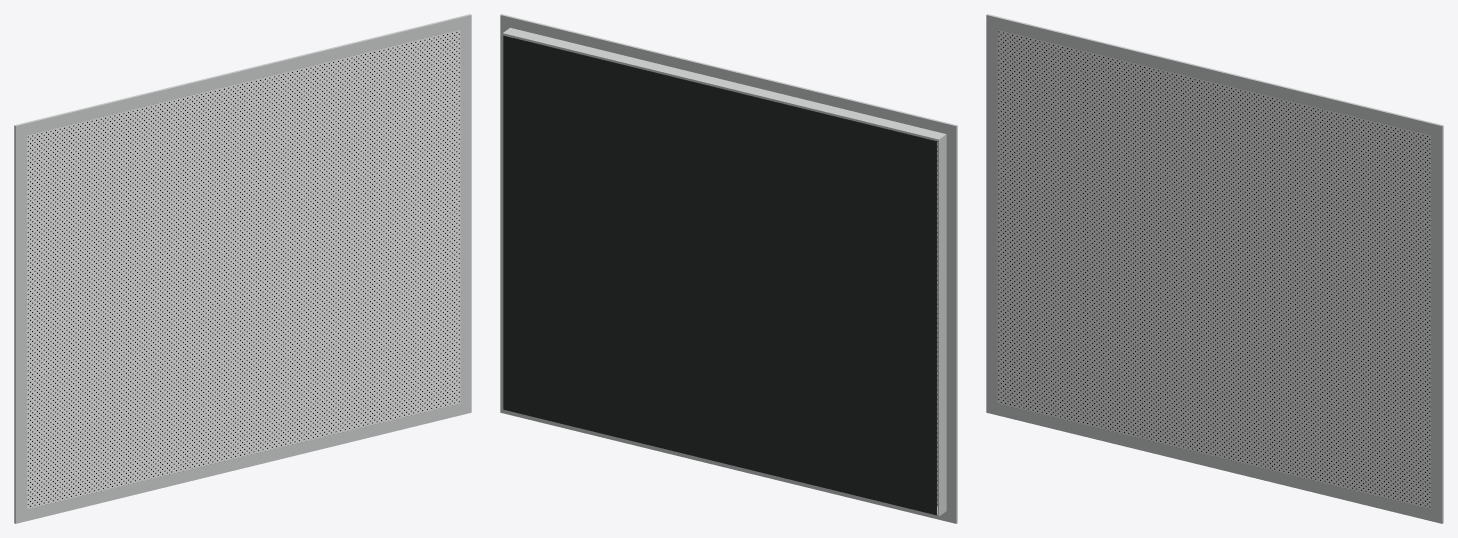
File: ecoclima-egfr-600x500.glb
3 renders of one model, left to right at view 1: azimuth 30°, elevation 25°; view 2: azimuth 150°, elevation 25°; view 3: azimuth 330°, elevation 25°, orthographic.
Visible parts, largest first — view 1: Profile_lamiera_forata.001, Profile_cornice.113, Profile_cornice.114, Profile_cornice.115, Profile_cornice.116; view 2: Interno.032, Profile_cornice.113, Profile_cornice.115, Profile_ritorno.120, Profile_ritorno.122, Profile_cornice.114, Profile_cornice.116, Profile_lamiera_forata.001, Profile_ritorno.123, Profile_ritorno.121; view 3: Profile_lamiera_forata.001, Profile_cornice.113, Profile_cornice.114, Profile_cornice.116, Profile_cornice.115.
Boxes of the visible parts, x1,y1,x2,y2 form: Profile_lamiera_forata.001: [27, 30, 460, 509]; Profile_cornice.113: [14, 14, 471, 137]; Profile_cornice.114: [14, 401, 471, 523]; Profile_cornice.115: [14, 135, 26, 511]; Profile_cornice.116: [460, 27, 471, 403]; Interno.032: [503, 35, 936, 515]; Profile_cornice.113: [500, 14, 957, 137]; Profile_cornice.115: [946, 136, 957, 511]; Profile_ritorno.120: [502, 27, 946, 140]; Profile_ritorno.122: [937, 136, 946, 514]; Profile_cornice.114: [500, 401, 957, 523]; Profile_cornice.116: [500, 27, 512, 401]; Profile_lamiera_forata.001: [512, 37, 937, 506]; Profile_ritorno.123: [502, 35, 511, 408]; Profile_ritorno.121: [502, 409, 946, 516]; Profile_lamiera_forata.001: [997, 30, 1430, 509]; Profile_cornice.113: [986, 14, 1443, 137]; Profile_cornice.114: [986, 401, 1443, 523]; Profile_cornice.116: [1431, 135, 1443, 511]; Profile_cornice.115: [986, 27, 997, 403].
Size of the model in its own units: 0.6 by 0.5 by 0.022.
Materials: 3 (1 with a texture image).
